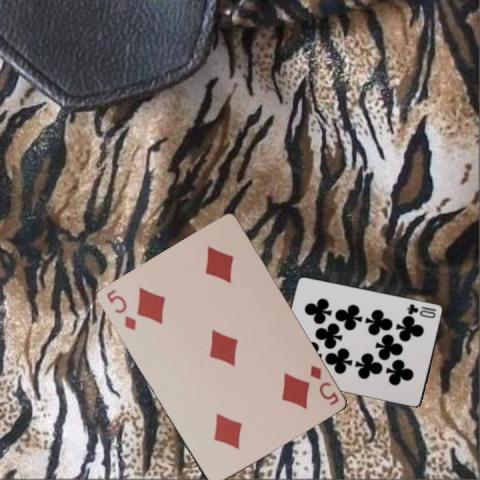10c: (404, 301, 438, 319)
5d: (103, 286, 137, 332), (306, 362, 340, 407)
